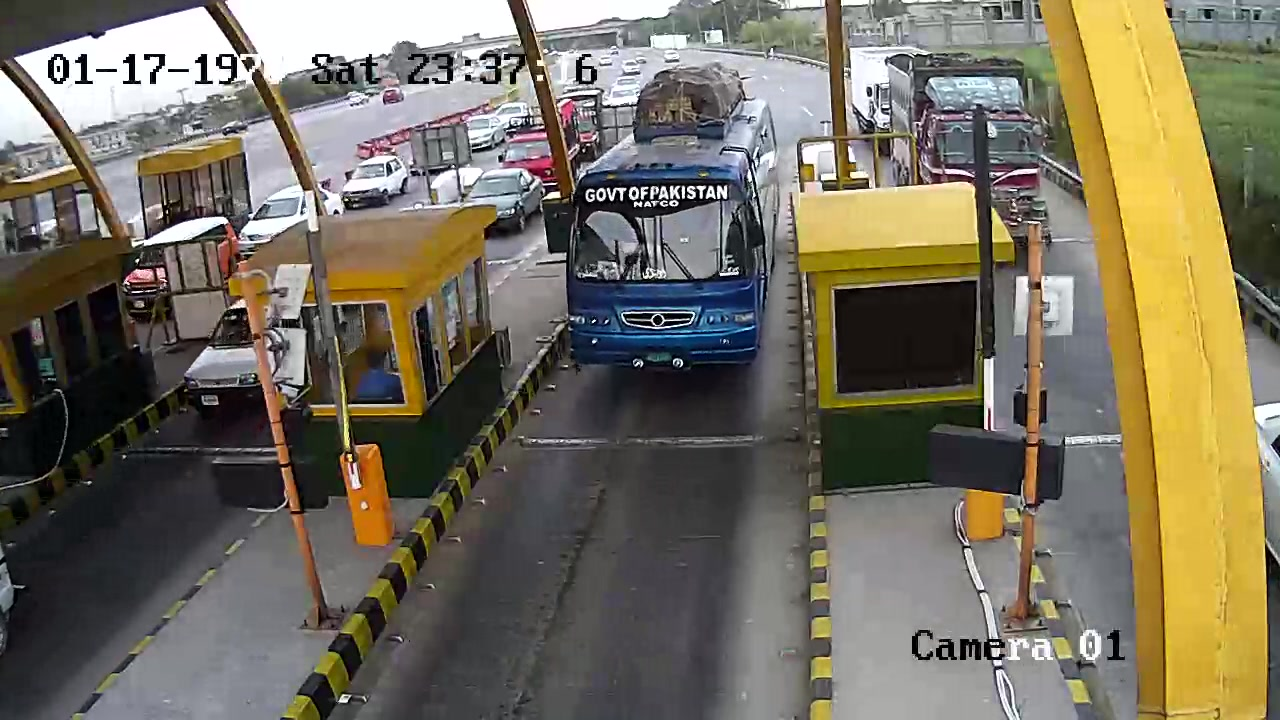F4: (563, 61, 784, 385)
